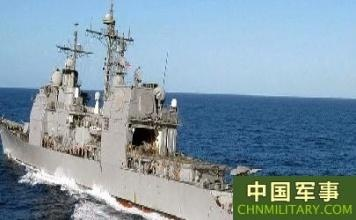warship: (3, 1, 232, 219)
